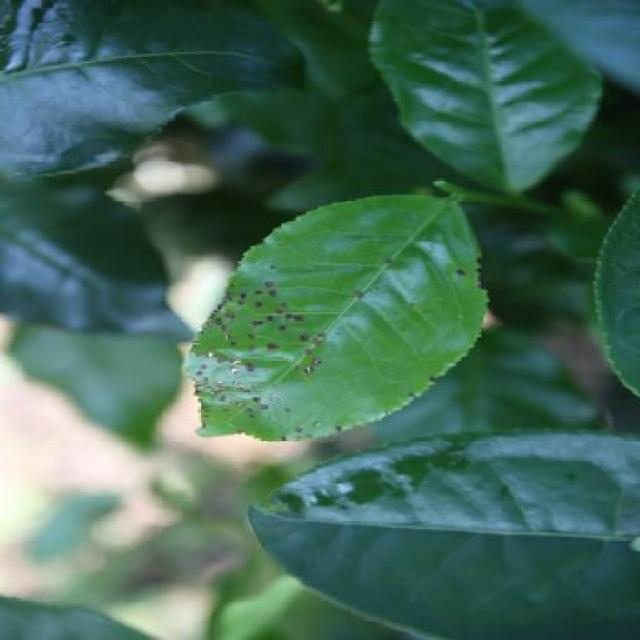Tea Mosquito bug infested leaf: (177, 190, 477, 462)
